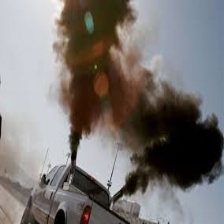smoke: (64, 8, 212, 171)
